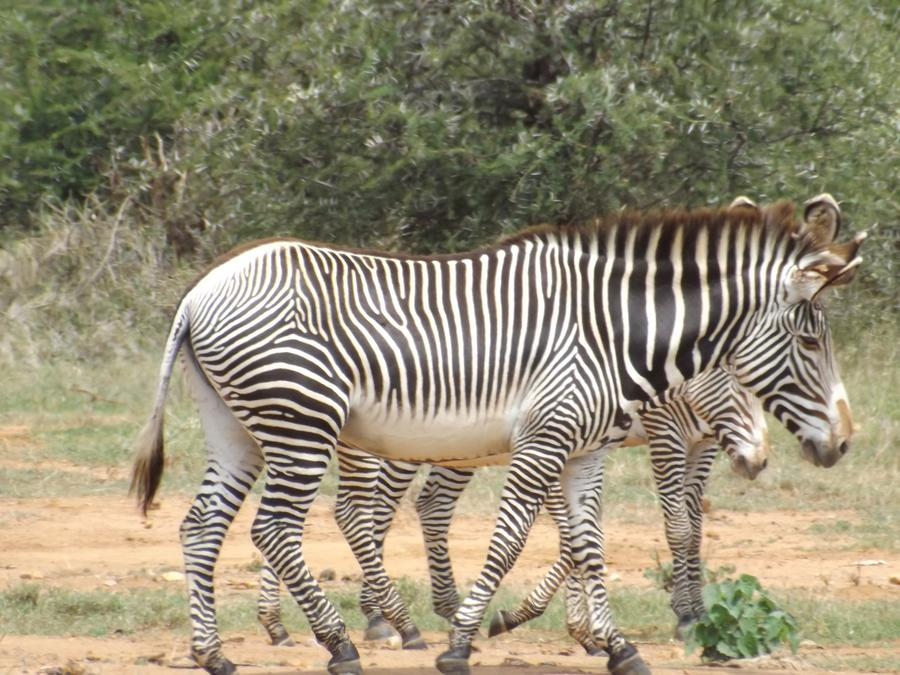zebra_grevys: (185, 232, 606, 450)
